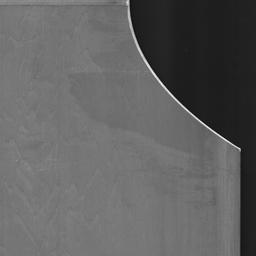Crescent gap: (130, 0, 240, 147)
